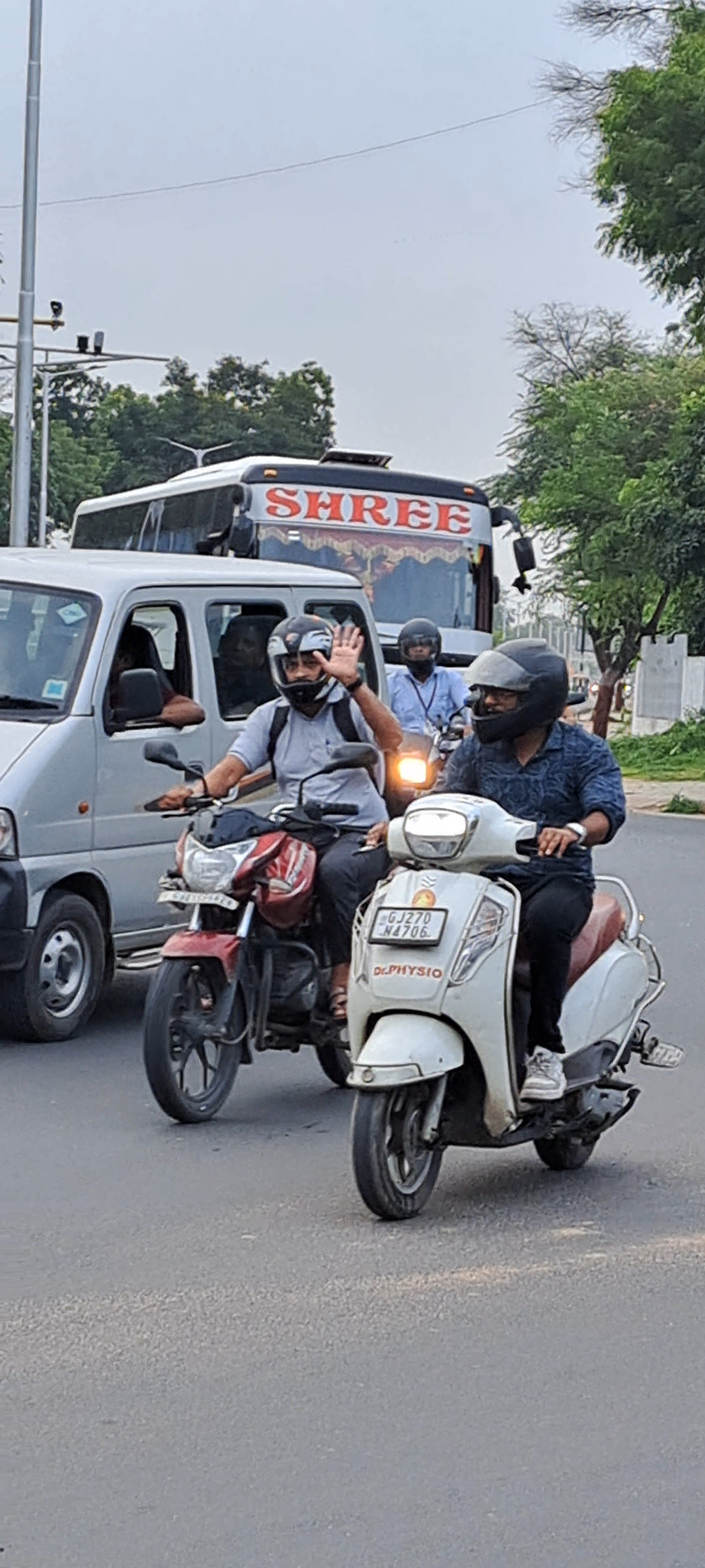BikeWithRider: (334, 623, 690, 1232), (128, 598, 414, 1135)
Helmet: (455, 629, 580, 753), (255, 604, 359, 719), (388, 611, 451, 676)
